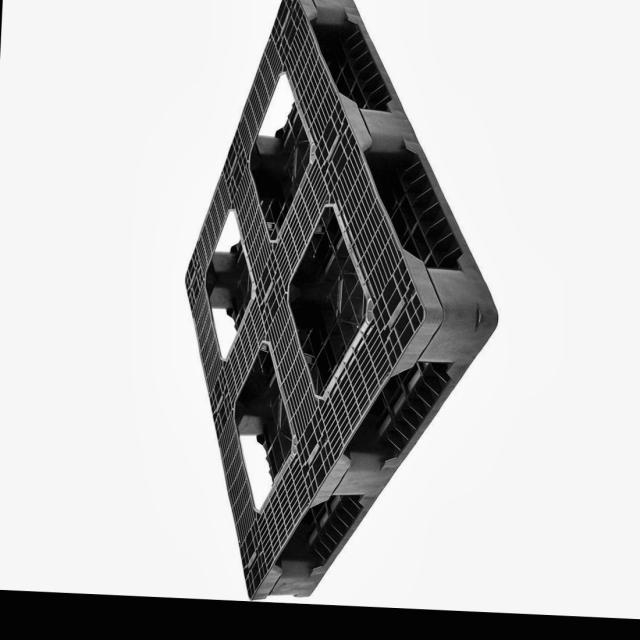non-igps: (181, 0, 501, 602)
